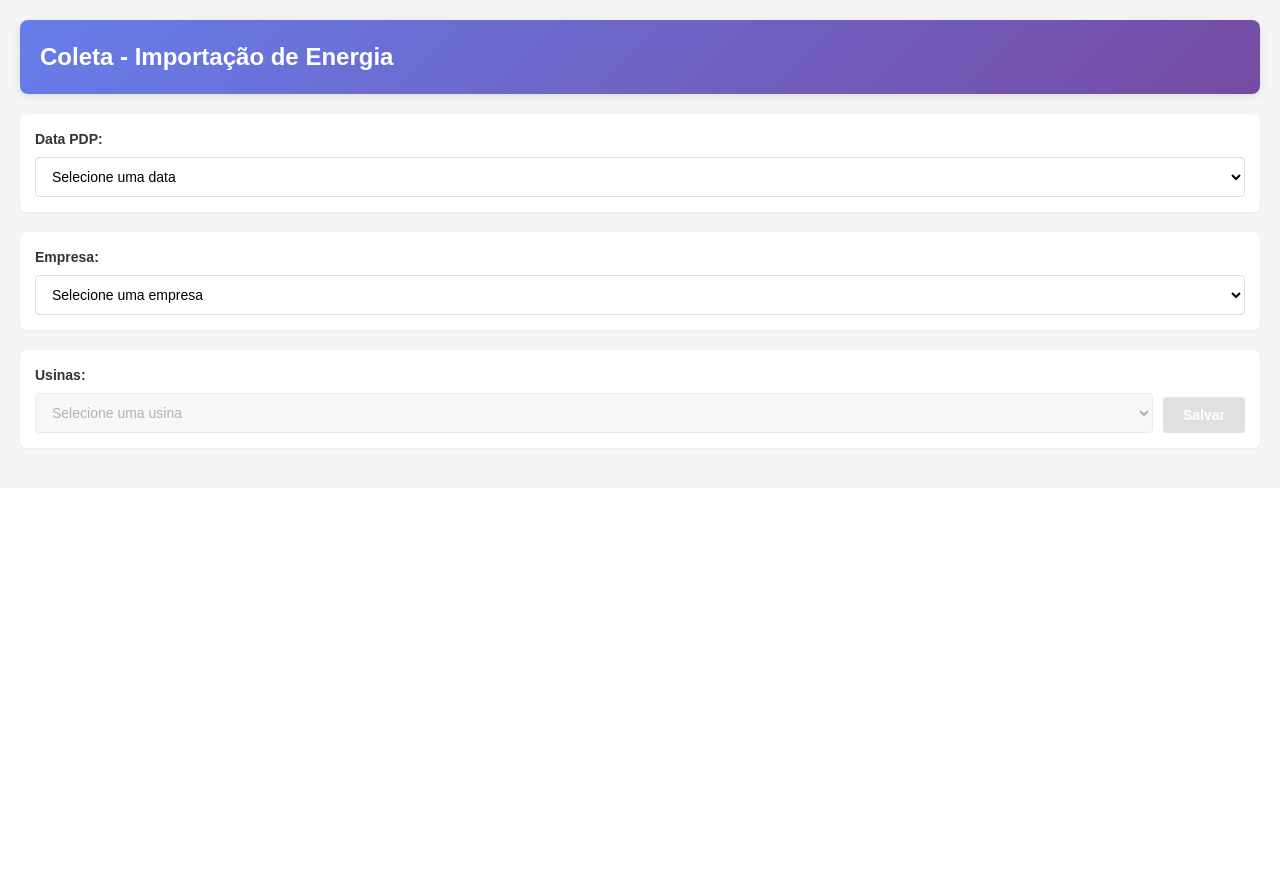
Scenario: Import Component › Textarea de Valores › deve limpar textarea ao clicar em Limpar
Select "15/01/2024" in the dropdown with test id "data-pdp-select" at (640, 177), box 35,157 -> 1245,197
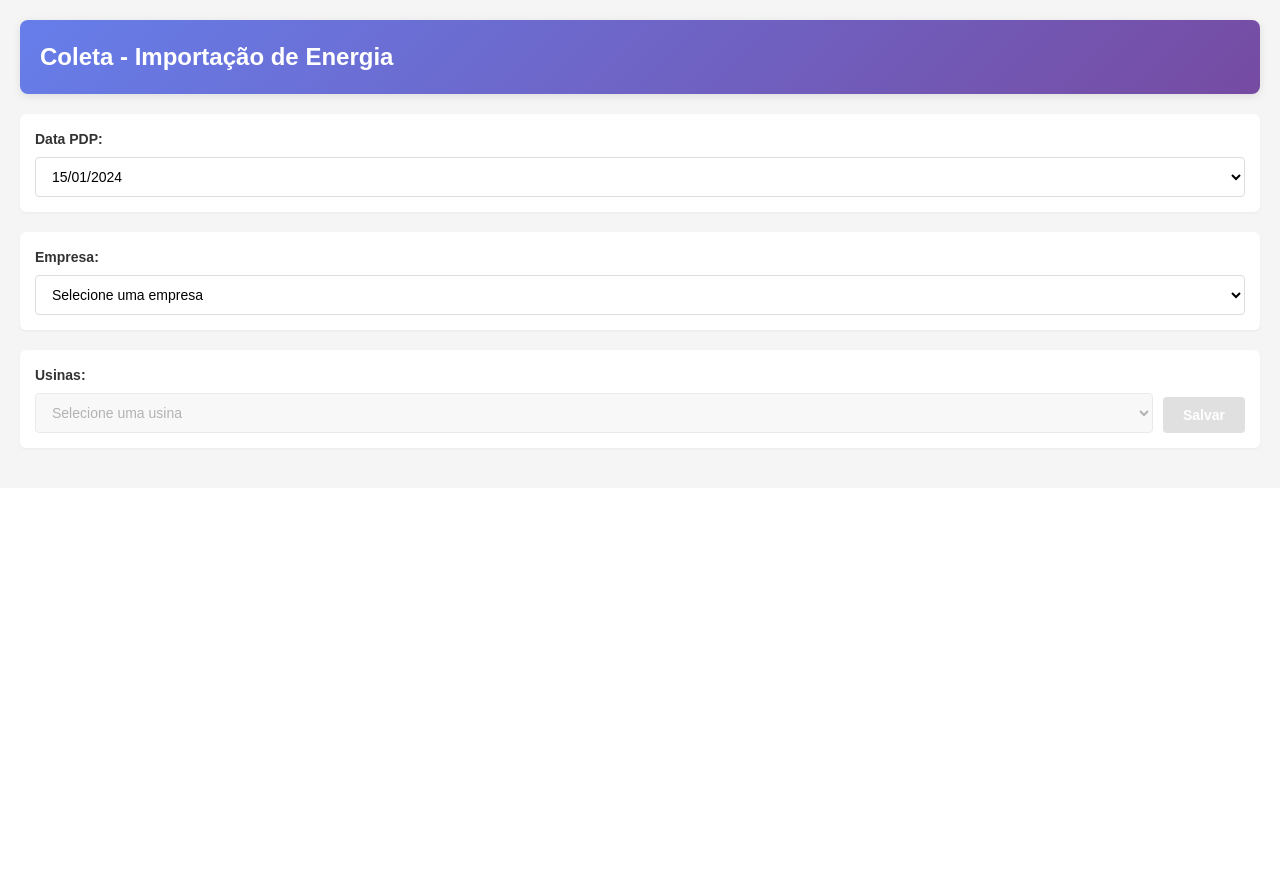
Select "Eletrobras" in the dropdown with test id "empresa-select" at (640, 295), box 35,275 -> 1245,315
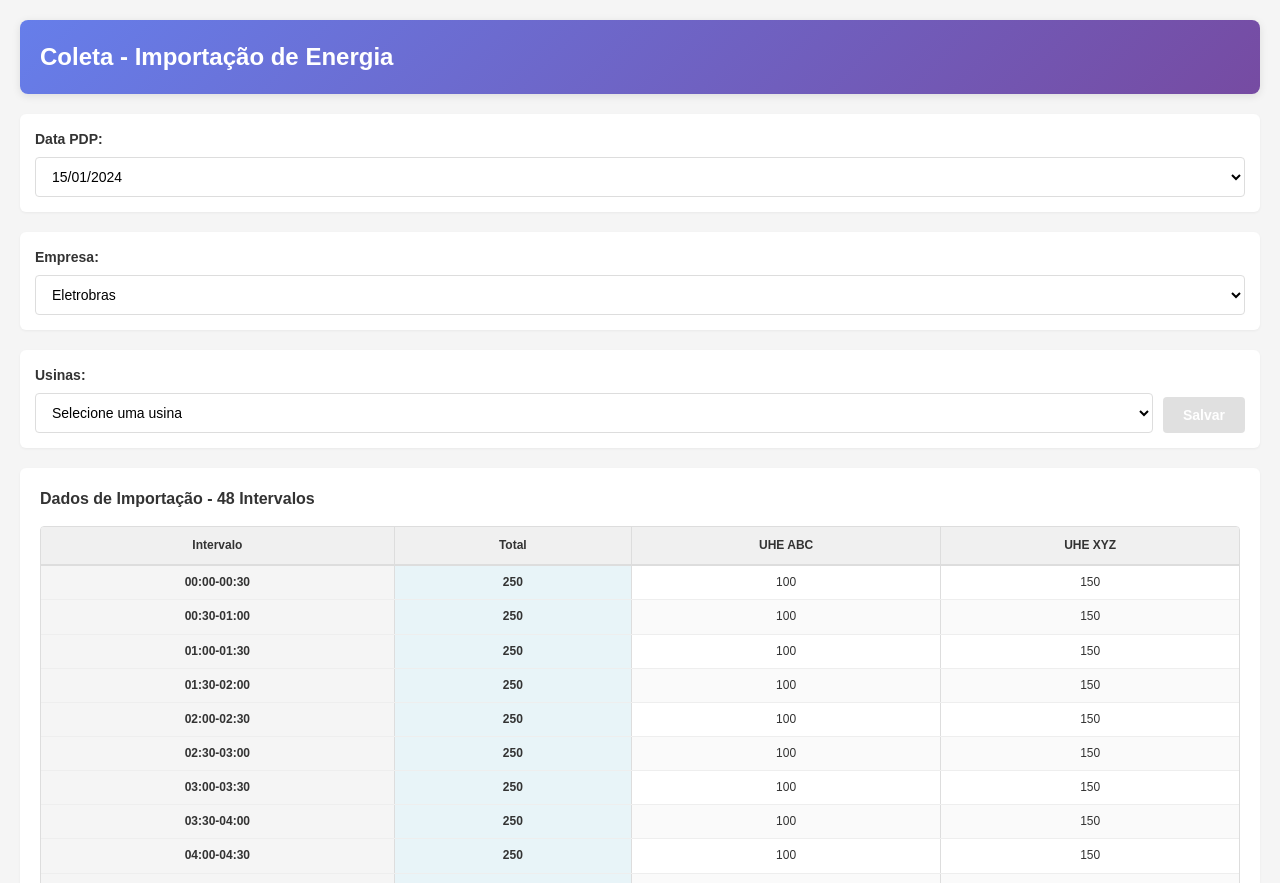
Select "UHE ABC" in the dropdown with test id "usina-select" at (594, 413), box 35,393 -> 1153,433
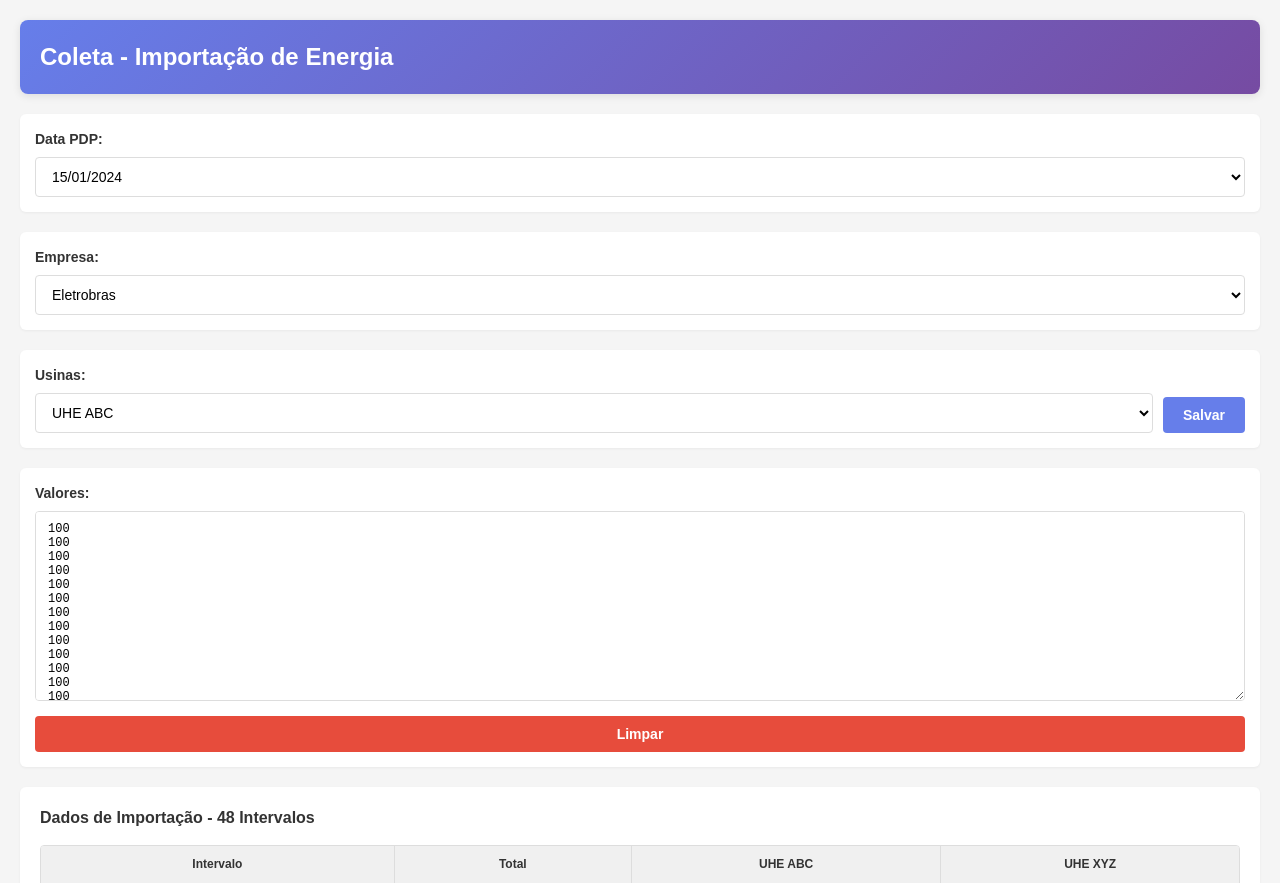
Expected: the text box with test id "valores-textarea" is shown, 35,511 -> 1245,701
Click the button with test id "limpar-btn" at (640, 734), box 35,716 -> 1245,752
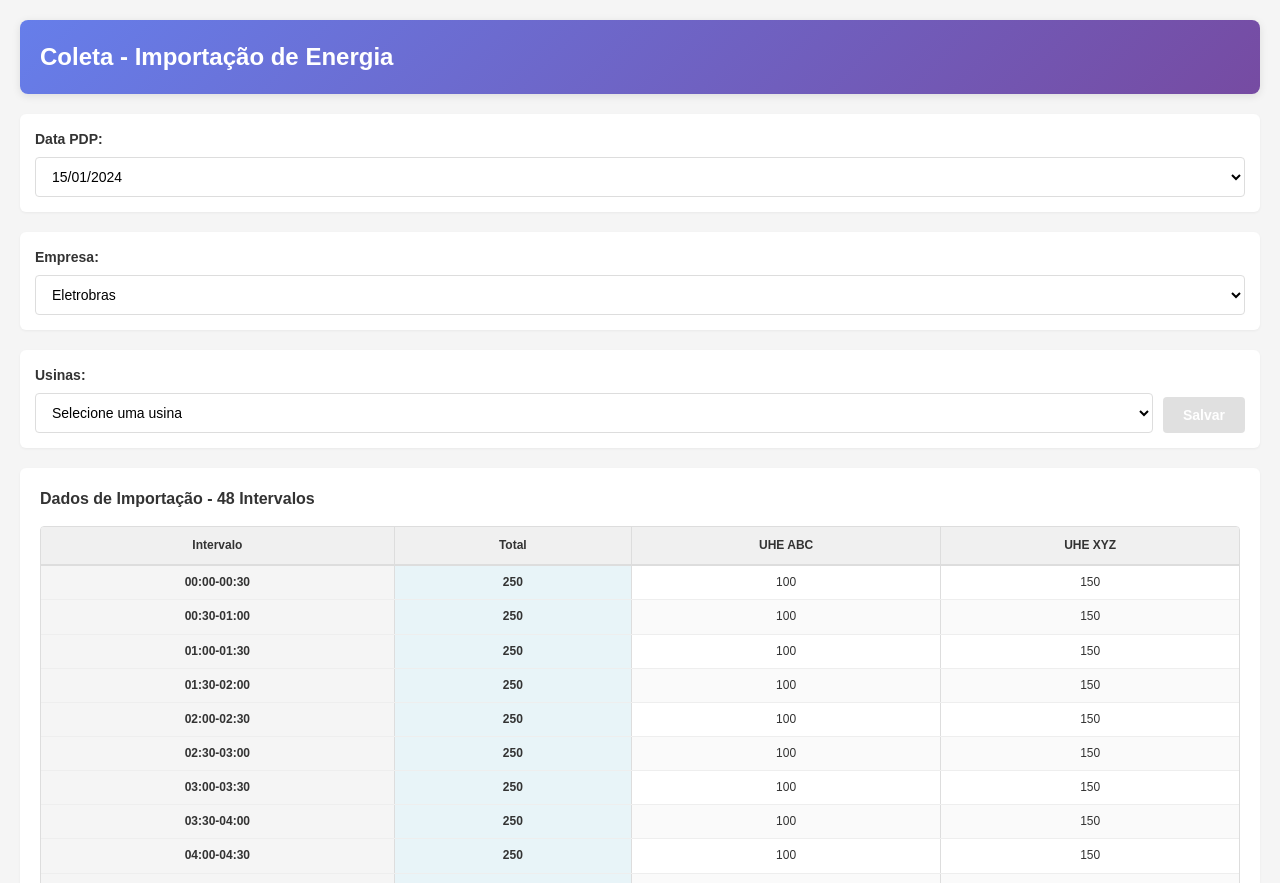
Expected: the text box with test id "valores-textarea" is gone
